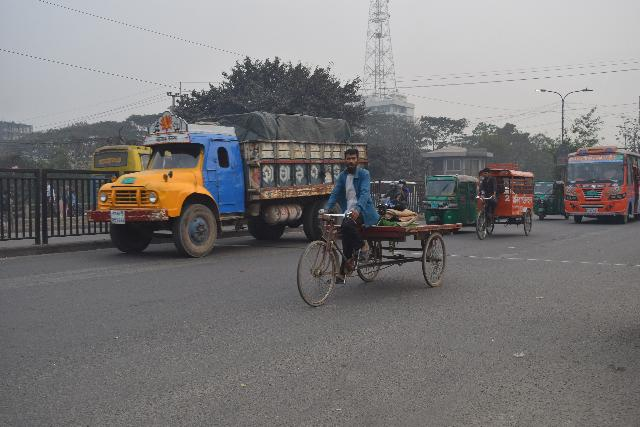bus: (561, 126, 640, 231)
truck: (90, 107, 375, 260)
